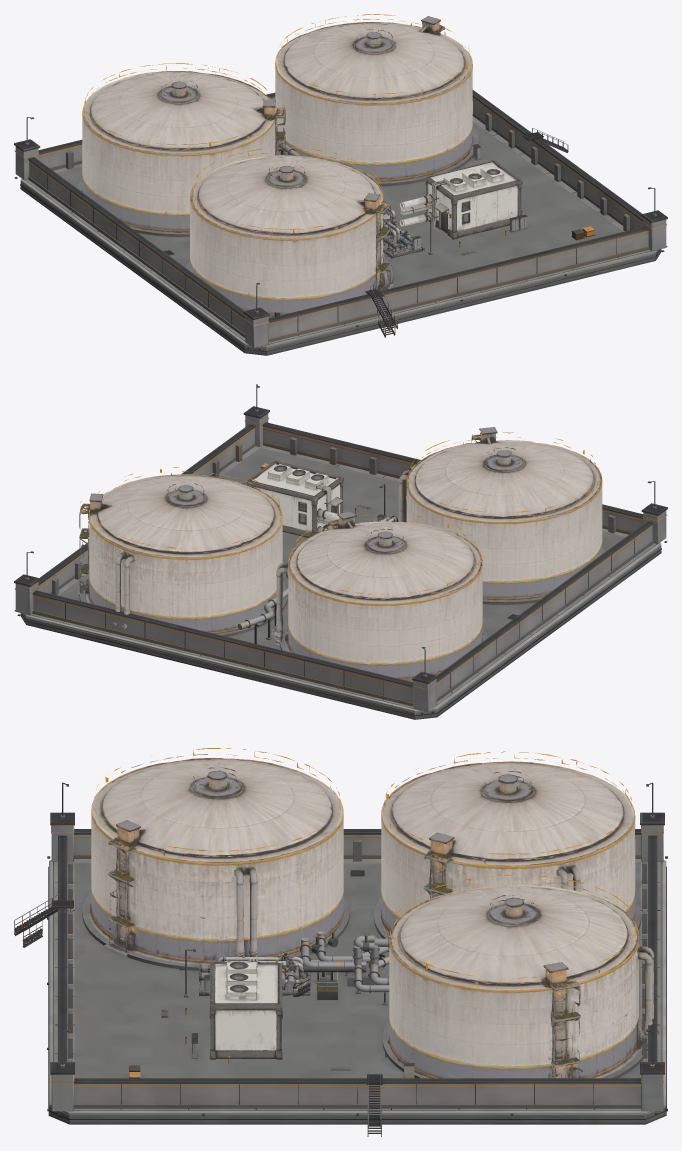
Rendered from oil_tanks.lite.glb.
3 renders of one model, top to bottom at view 1: azimuth 30°, elevation 25°; view 2: azimuth 150°, elevation 25°; view 3: azimuth 270°, elevation 25°, orthographic. The views are drawn at different scales.
Parts seen in each view (by area): view 1: parts_colony-floatTank, hull, parts_colony-plantHouse, parts_colony-manifoldSkid; view 2: parts_colony-floatTank, hull, parts_colony-plantHouse; view 3: parts_colony-floatTank, hull, parts_colony-plantHouse, parts_colony-manifoldSkid.
Boxes of the visible parts, x1,y1,x2,y2 form: parts_colony-floatTank: (81,14,473,316); hull: (14,90,667,355); parts_colony-plantHouse: (399,160,522,239); parts_colony-manifoldSkid: (383,198,424,258); parts_colony-floatTank: (77,427,602,680); hull: (14,384,667,719); parts_colony-plantHouse: (246,460,343,537); parts_colony-floatTank: (89,748,659,1078); hull: (14,782,667,1136); parts_colony-plantHouse: (209,958,282,1059); parts_colony-manifoldSkid: (199,950,310,995).
Size of the model in its own units: 76.28 by 20.07 by 76.28.
4 materials, 4 textured.
